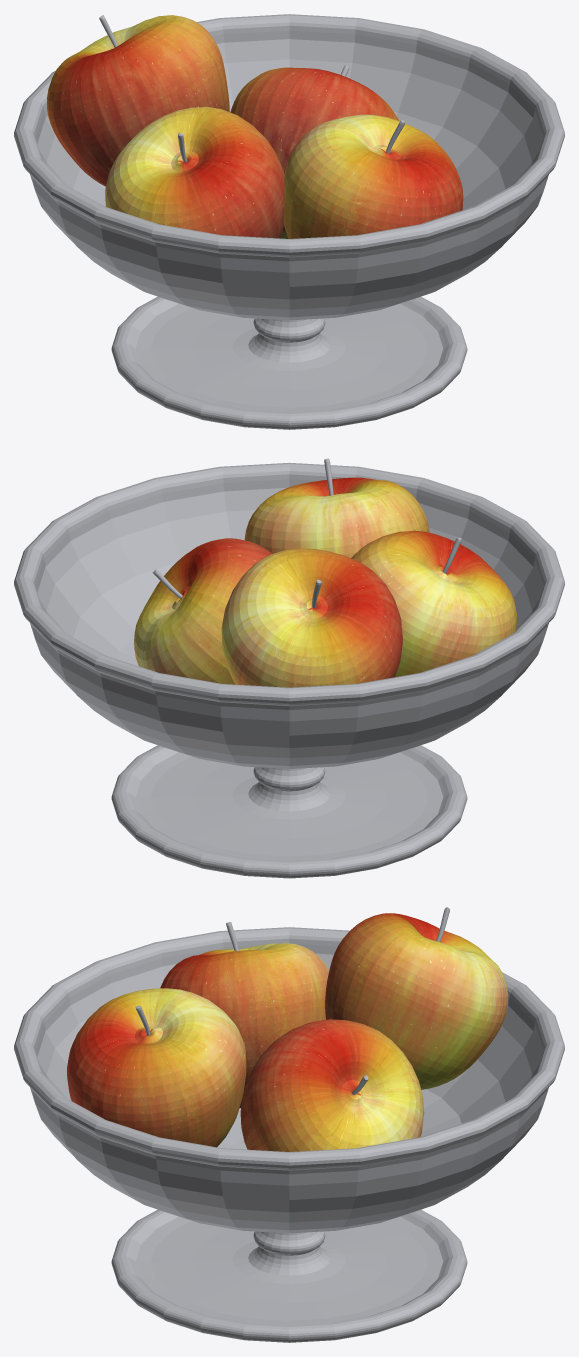
Rendered from Apple.obj.
3 views of the same model, one above another, from view 1: azimuth 30°, elevation 25°; view 2: azimuth 150°, elevation 25°; view 3: azimuth 270°, elevation 25° (orthographic).
Parts seen in each view (by area): view 1: jar_Plane, apple2_Tube.002, apple2.003_Tube.005, apple2.001_Tube.001, apple2.002_Tube.004; view 2: jar_Plane, apple2.003_Tube.005, apple2_Tube.002, apple2.002_Tube.004, apple2.001_Tube.001; view 3: jar_Plane, apple2.001_Tube.001, apple2.003_Tube.005, apple2.002_Tube.004, apple2_Tube.002.
Boxes of the visible parts, <box> form: jar_Plane: <box>14,14,564,429</box>; apple2_Tube.002: <box>105,107,284,238</box>; apple2.003_Tube.005: <box>47,15,229,186</box>; apple2.001_Tube.001: <box>284,114,463,238</box>; apple2.002_Tube.004: <box>230,65,399,238</box>; jar_Plane: <box>14,462,564,878</box>; apple2.003_Tube.005: <box>221,548,402,687</box>; apple2_Tube.002: <box>351,530,516,677</box>; apple2.002_Tube.004: <box>134,538,272,684</box>; apple2.001_Tube.001: <box>244,458,429,557</box>; jar_Plane: <box>14,927,564,1342</box>; apple2.001_Tube.001: <box>67,988,246,1147</box>; apple2.003_Tube.005: <box>325,907,508,1089</box>; apple2.002_Tube.004: <box>240,1019,424,1151</box>; apple2_Tube.002: <box>160,922,329,1107</box>.
Size of the model in its own units: 0.2339 by 0.1456 by 0.2339.
Materials: 3 (1 with a texture image).
